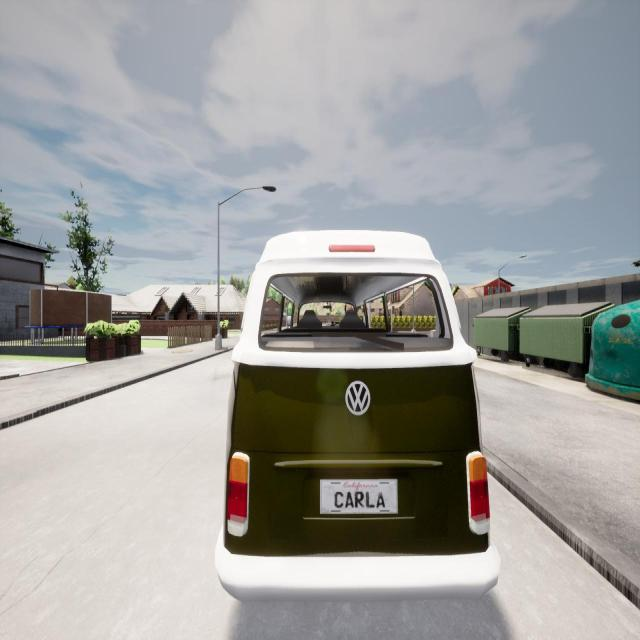Vehicle: (226, 236, 510, 606)
traffic_light: (392, 306, 395, 314)
